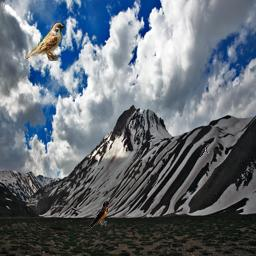Sparrow: (25, 22, 65, 61)
Swallow: (89, 201, 111, 228), (200, 143, 210, 157)
